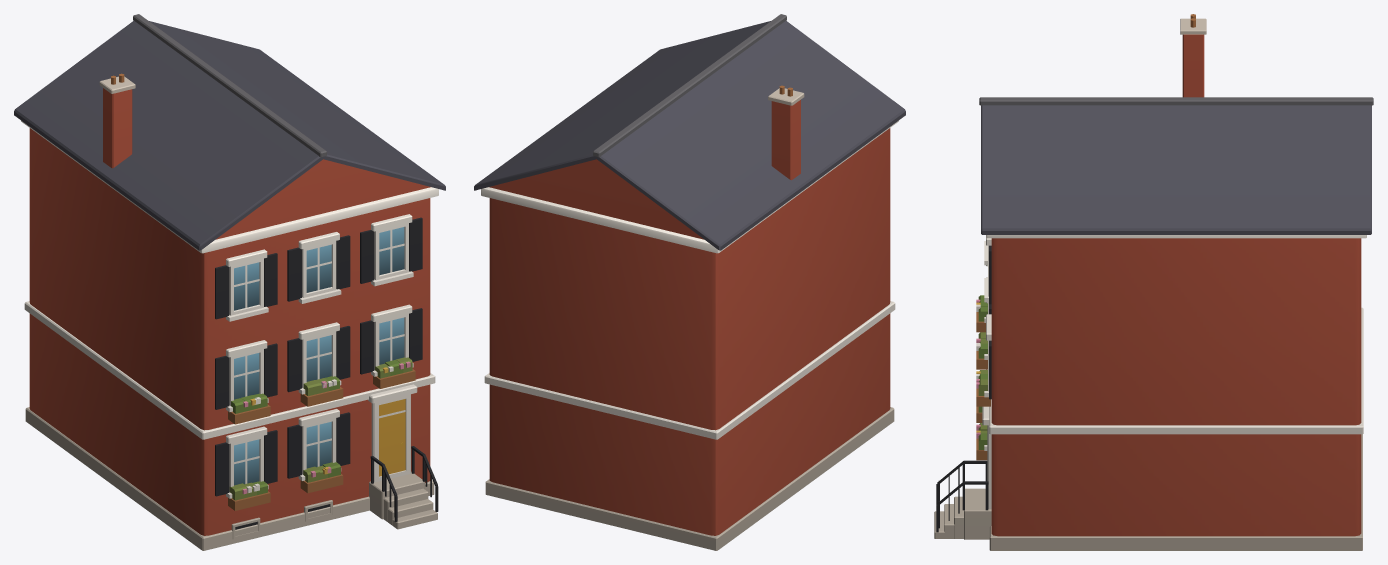
File: beacon_n8.glb
3 views of the same model, side by side, from view 1: azimuth 30°, elevation 25°; view 2: azimuth 150°, elevation 25°; view 3: azimuth 270°, elevation 25° (orthographic). The views are drawn at different scales.
Parts seen in each view (by area): view 1: beacon_n8; view 2: beacon_n8; view 3: beacon_n8.
Boxes of the visible parts, x1,y1,x2,y2 form: beacon_n8: (14, 14, 445, 550); beacon_n8: (474, 14, 905, 550); beacon_n8: (934, 14, 1373, 550).
Bounding box in the file's own units: 9.7 × 15.07 × 14.26.
1 material, 1 textured.
